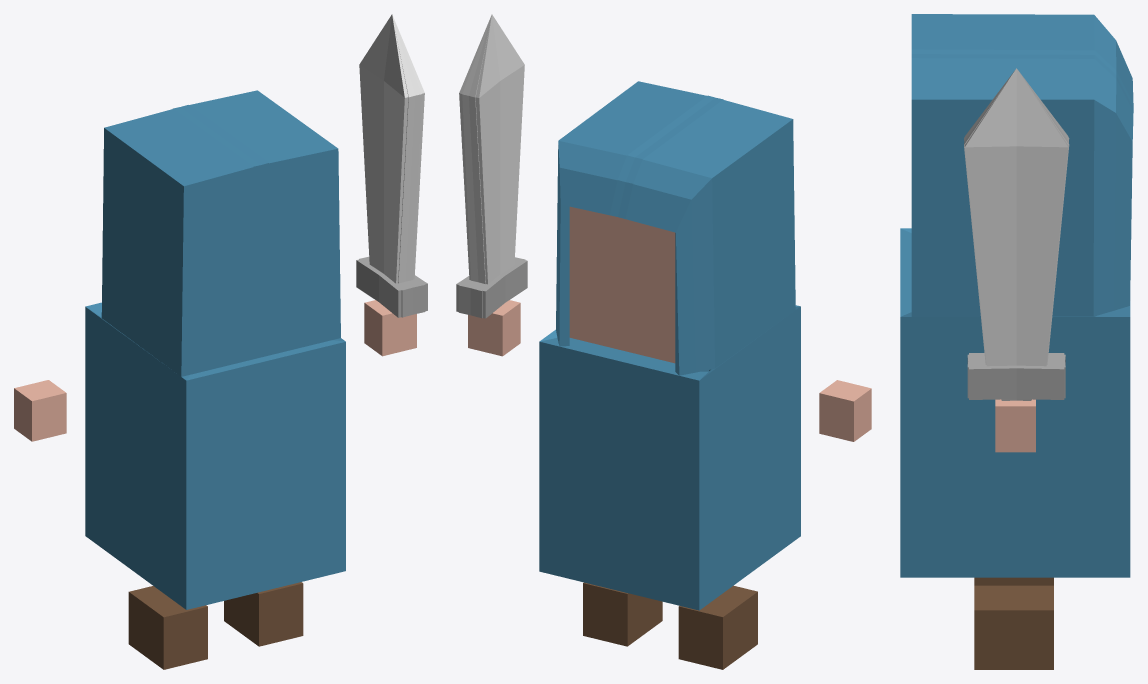
Rendered from Unit.fbx.
The picture shows the model from 3 angles, left to right: view 1: azimuth 30°, elevation 25°; view 2: azimuth 150°, elevation 25°; view 3: azimuth 270°, elevation 25°; orthographic projection. The views are drawn at different scales.
Visible parts, largest first — view 1: Roman Unit, Sword; view 2: Roman Unit, Sword; view 3: Roman Unit, Sword.
Boxes of the visible parts, x1,y1,x2,y2 form: Roman Unit: [14, 90, 416, 669]; Sword: [356, 14, 427, 317]; Roman Unit: [468, 81, 871, 669]; Sword: [456, 14, 527, 318]; Roman Unit: [900, 14, 1133, 669]; Sword: [964, 68, 1069, 400].
Size of the model in its own units: 1.41 by 2.04 by 0.6529.
